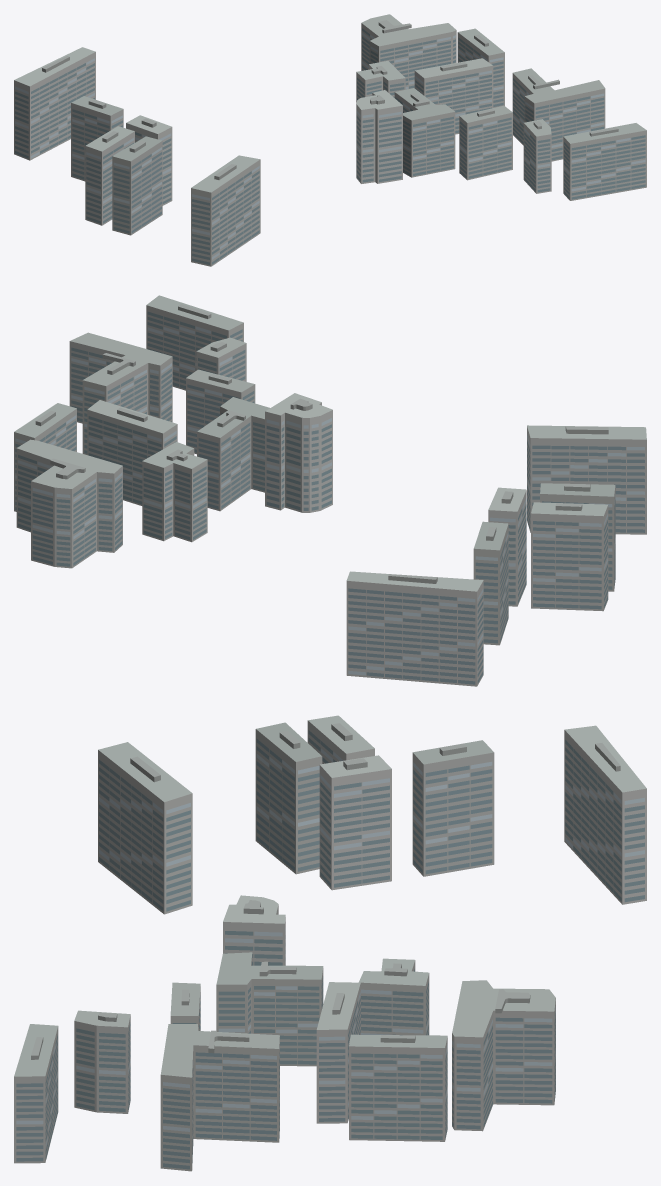
Rendered from apt-a13123102.glb.
The picture shows the model from 3 angles, top to bottom: view 1: azimuth 30°, elevation 25°; view 2: azimuth 150°, elevation 25°; view 3: azimuth 270°, elevation 25°; orthographic projection. The views are drawn at different scales.
Visible parts, largest first — view 1: apt-a13123102; view 2: apt-a13123102; view 3: apt-a13123102.
Boxes of the visible parts, <box> form: apt-a13123102: <box>14,14,646,266</box>; apt-a13123102: <box>14,295,646,686</box>; apt-a13123102: <box>14,715,646,1171</box>.
Size of the model in its own units: 300 by 47.81 by 234.
